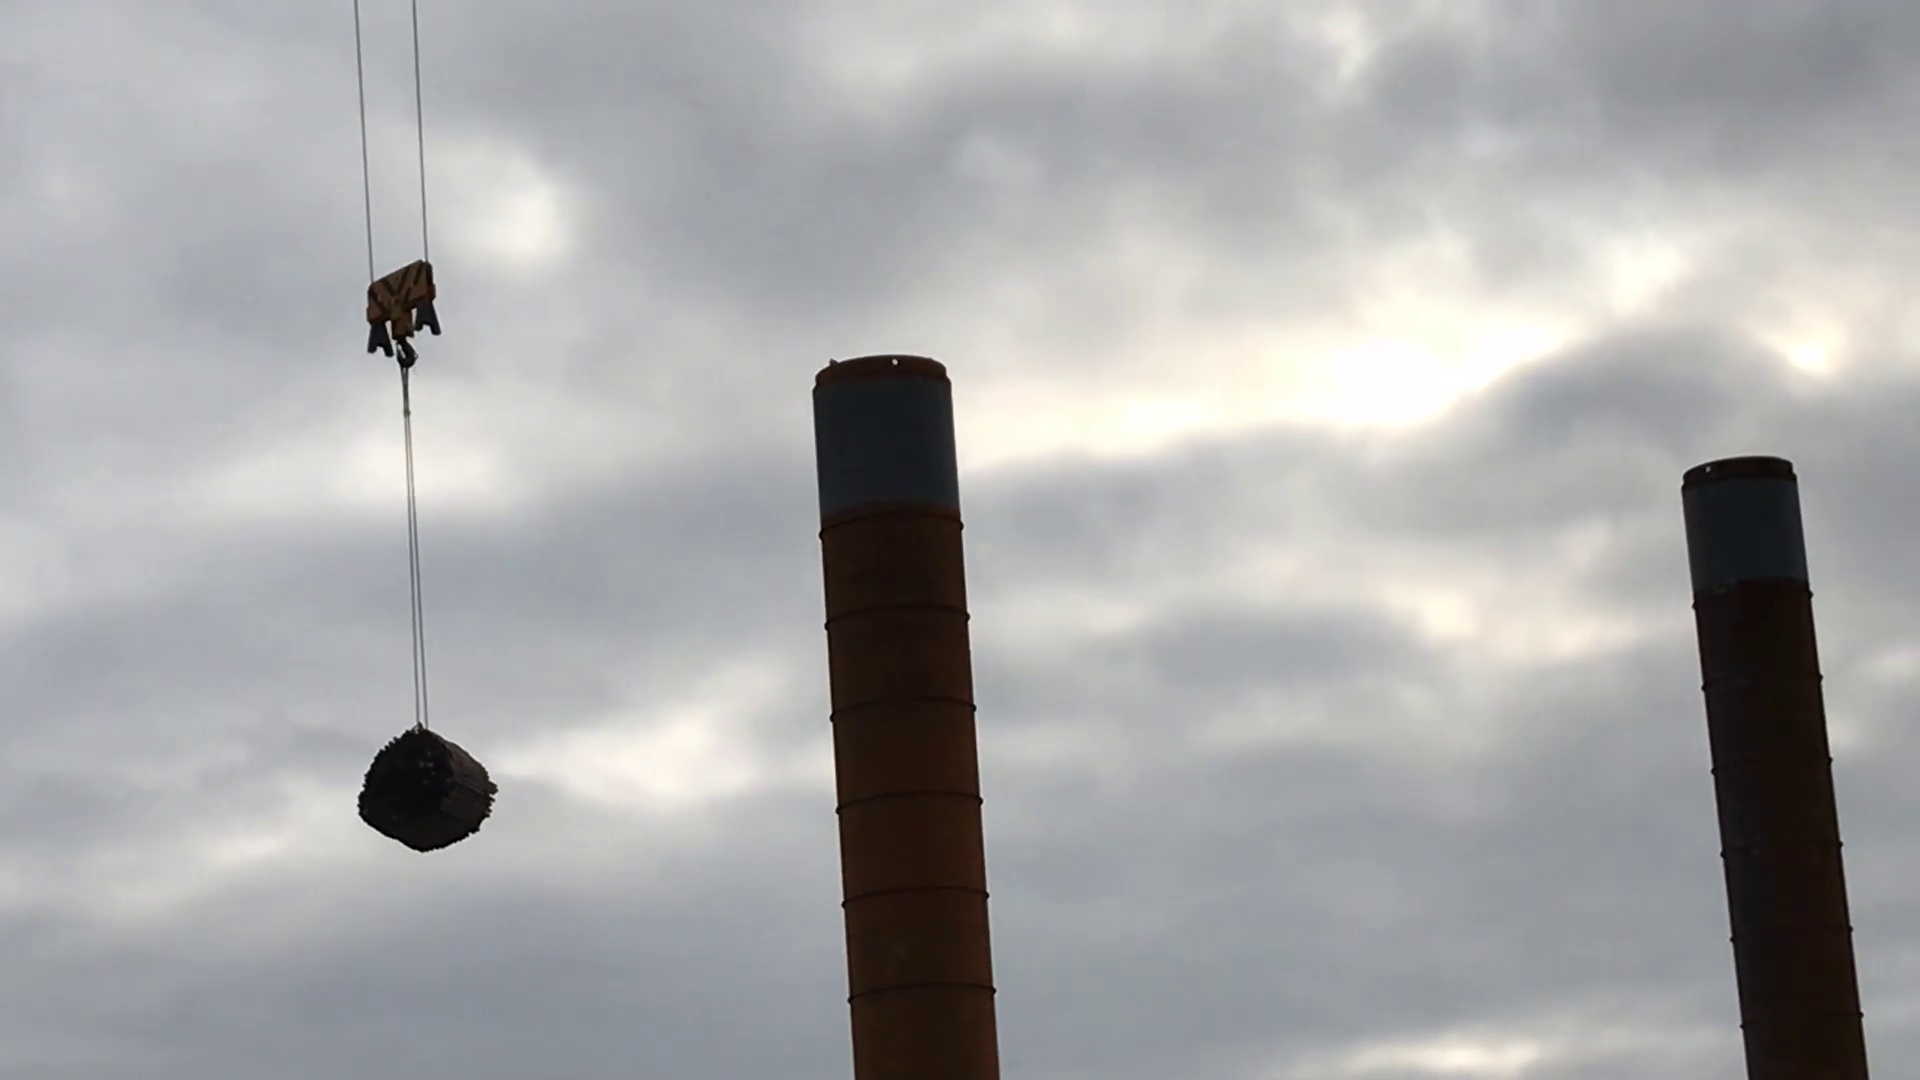hook: (352, 257, 446, 378)
